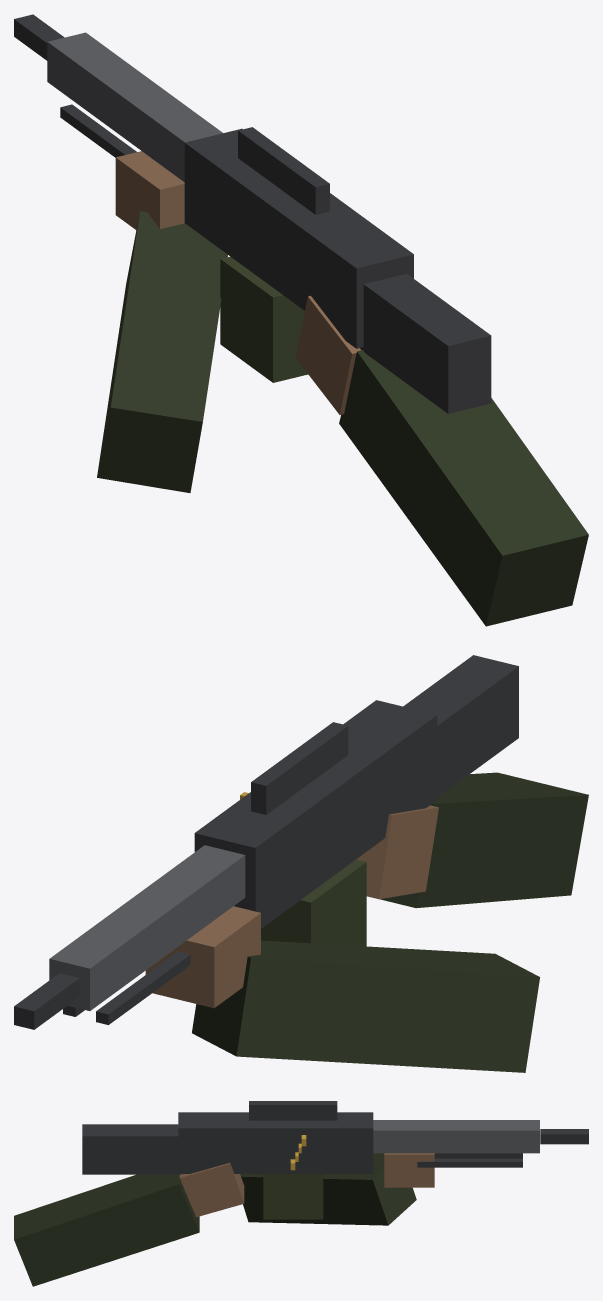
The model's file is lmg.glb.
3 renders of one model, top to bottom at view 1: azimuth 30°, elevation 25°; view 2: azimuth 150°, elevation 25°; view 3: azimuth 270°, elevation 25°, orthographic. The views are drawn at different scales.
Visible parts, largest first — view 1: lmg_5, lmg_0, lmg_1, lmg_4, lmg_2; view 2: lmg_5, lmg_0, lmg_1, lmg_4, lmg_2; view 3: lmg_0, lmg_5, lmg_1, lmg_4, lmg_2.
Part boxes in pixels (x1,y1,x2,y2): lmg_5: [97, 211, 588, 626]; lmg_0: [14, 14, 491, 413]; lmg_1: [47, 32, 222, 181]; lmg_4: [115, 151, 360, 414]; lmg_2: [220, 256, 307, 382]; lmg_5: [192, 772, 588, 1072]; lmg_0: [14, 655, 518, 1029]; lmg_1: [49, 845, 245, 1010]; lmg_4: [145, 805, 438, 1008]; lmg_2: [261, 859, 366, 946]; lmg_0: [82, 1101, 588, 1174]; lmg_5: [14, 1153, 416, 1286]; lmg_1: [373, 1120, 539, 1153]; lmg_4: [179, 1153, 434, 1217]; lmg_2: [263, 1174, 323, 1219].
Bounding box in the file's own units: 0.4821 × 0.524 × 1.63.
